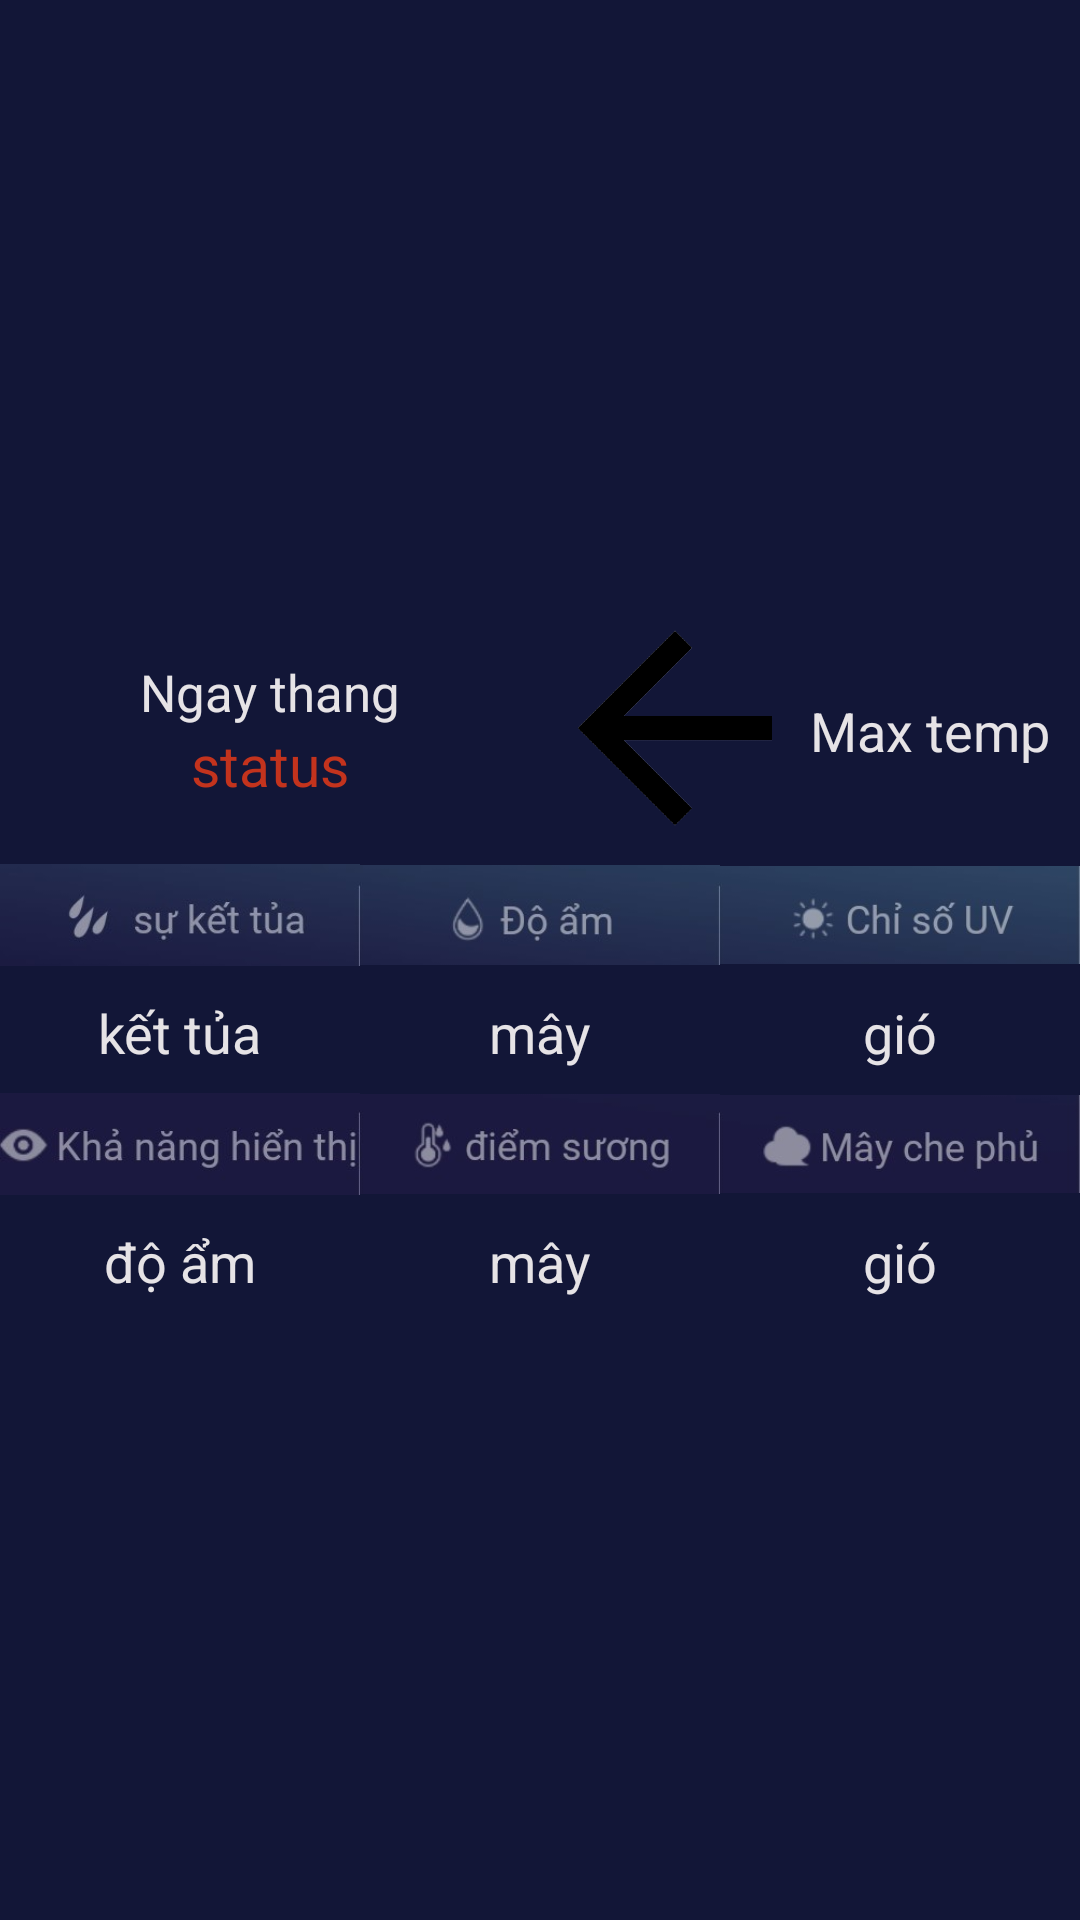

Named icons in this screenshot (1080x1920) and their bounding boxes, (x1, y1, x2, y2):
back: (578, 631, 772, 824)
